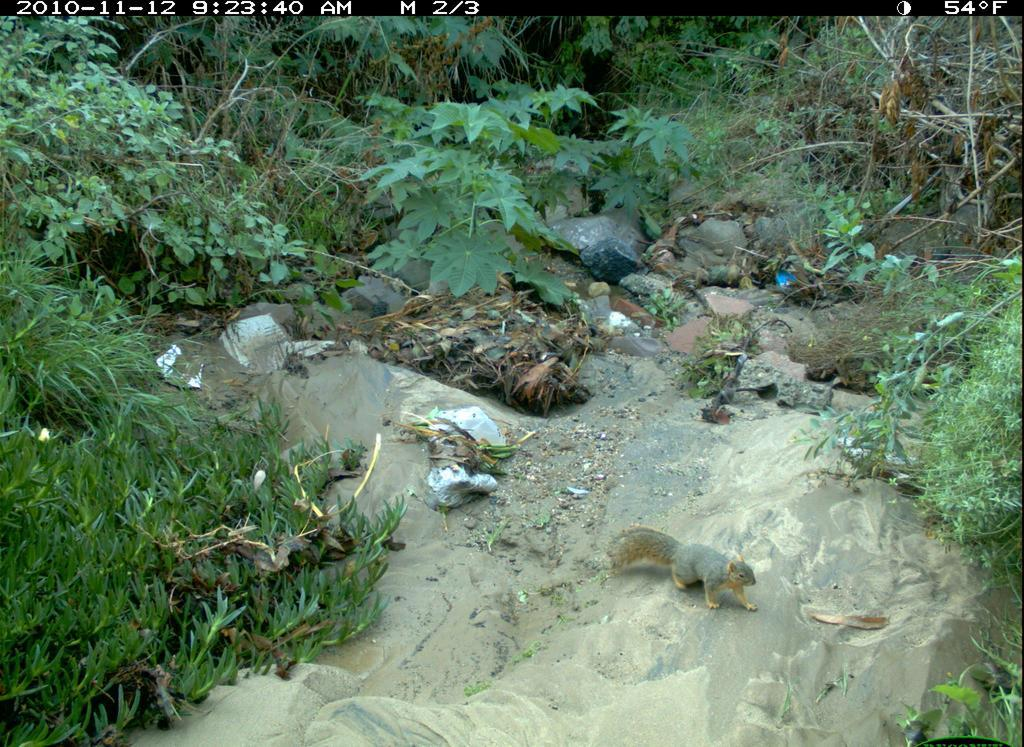squirrel: (605, 509, 767, 623)
